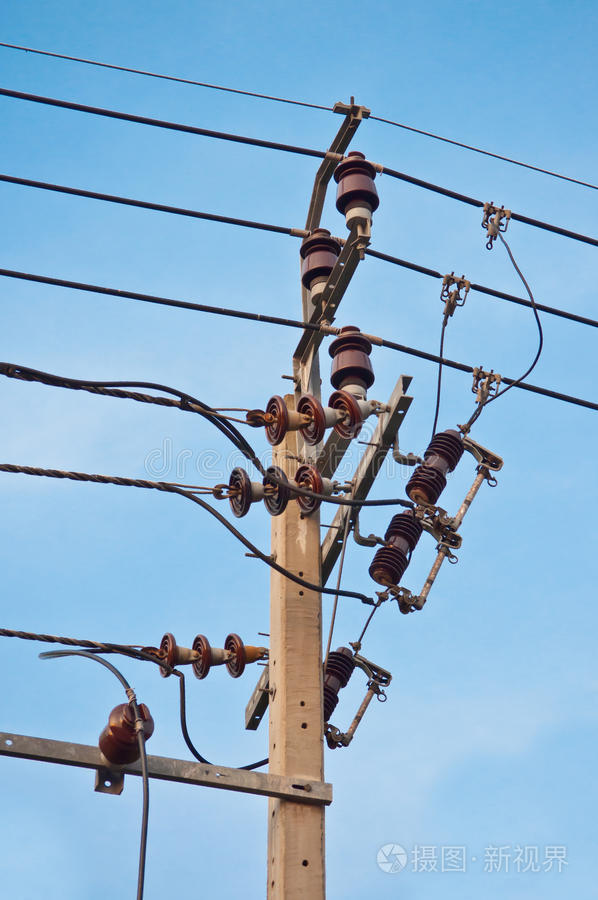insulator: (218, 462, 327, 517), (263, 390, 367, 447), (147, 630, 249, 682)
